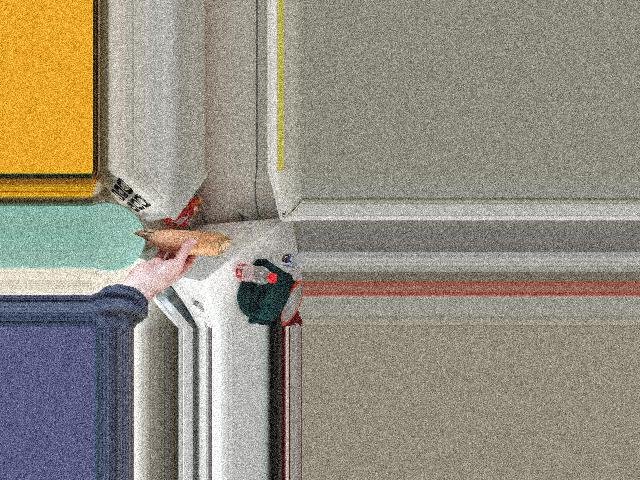sweet_potato: (136, 228, 232, 259)
